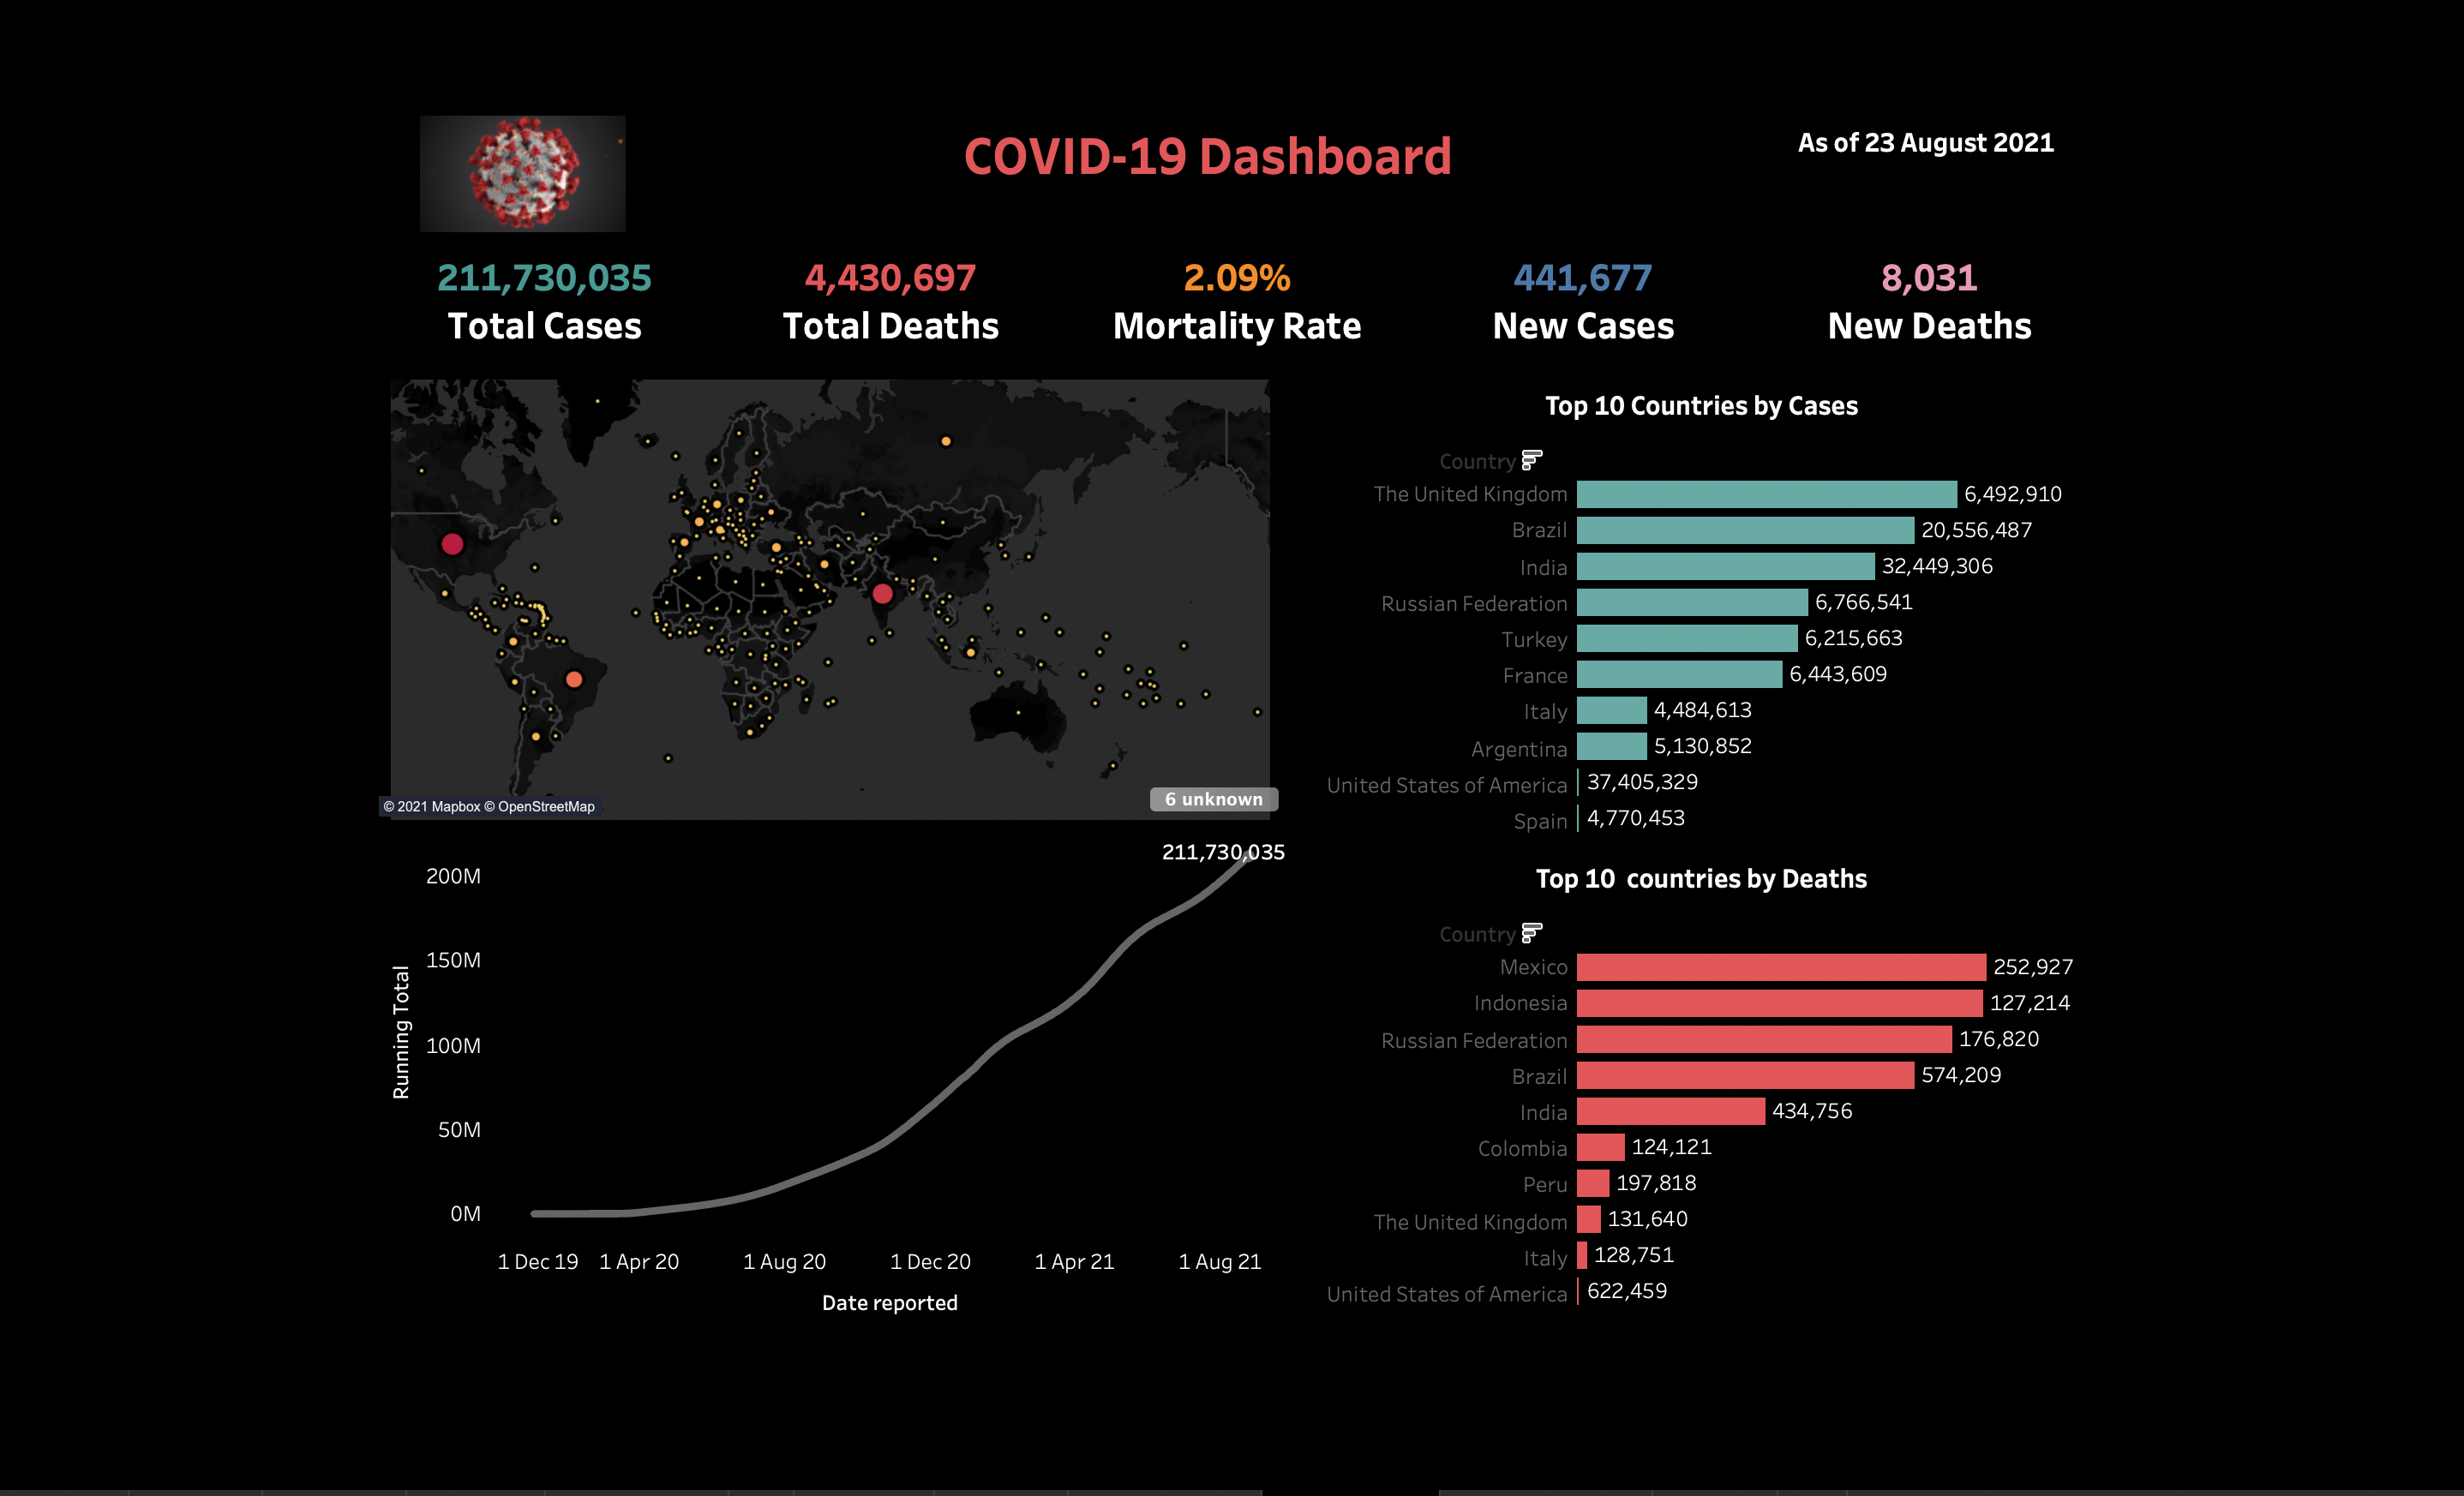

The dashboard page shown, as its layout file describes it:
{"tool":"tableau","page":{"name":"Dashboard 1","canvas":[1024,768],"ordinal":0},"visuals":[{"type":"image","param":"/Users/irfan/Downloads/cdc-w9KEokhajKw-unsplash.jpg","box":[20.5,13.4,154.6,75.8]},{"type":"worksheet","title":"Date","mark":"Automatic","box":[820.2,18.2,191.5,26.9]},{"type":"text","box":[166.9,23,660.5,32.6]},{"type":"worksheet","title":"Total Cases","mark":"Automatic","box":[8,89,203,71]},{"type":"worksheet","title":"Total Deaths","mark":"Automatic","box":[211,89,202,71]},{"type":"worksheet","title":"Mortality Rate%","mark":"Automatic","box":[413,89,202,71]},{"type":"worksheet","title":"New Cases","mark":"Automatic","box":[615,89,202,71]},{"type":"worksheet","title":"New Deaths","mark":"Automatic","box":[817,89,202,71]},{"type":"worksheet","title":"Map","mark":"Automatic","box":[6,167,541,265]},{"type":"worksheet","title":"Top10 case","mark":"Automatic","rows":["Country"],"cols":["New_cases"],"box":[548,167,474,276.5]},{"type":"worksheet","title":"Cumulative cases","mark":"Line","rows":["New_cases"],"cols":["Date_reported"],"box":[6,432,541,297]},{"type":"worksheet","title":"Top10death","mark":"Automatic","rows":["Country"],"cols":["New_deaths"],"box":[548,443.5,474,276.5]}]}

Visuals, with their boxes on the page's 1024x768 design canvas (x1, y1, x2, y2). These are canvas units, not pixel positions in the 2464x1496 screenshot, which may show the page scaled, cropped or inside an application window:
image: <bbox>20, 13, 175, 89</bbox>
"Date" worksheet: <bbox>820, 18, 1012, 45</bbox>
text: <bbox>167, 23, 827, 56</bbox>
"Total Cases" worksheet: <bbox>8, 89, 211, 160</bbox>
"Total Deaths" worksheet: <bbox>211, 89, 413, 160</bbox>
"Mortality Rate%" worksheet: <bbox>413, 89, 615, 160</bbox>
"New Cases" worksheet: <bbox>615, 89, 817, 160</bbox>
"New Deaths" worksheet: <bbox>817, 89, 1019, 160</bbox>
"Map" worksheet: <bbox>6, 167, 547, 432</bbox>
"Top10 case" worksheet: <bbox>548, 167, 1022, 444</bbox>
"Cumulative cases" worksheet (Line marks): <bbox>6, 432, 547, 729</bbox>
"Top10death" worksheet: <bbox>548, 444, 1022, 720</bbox>
